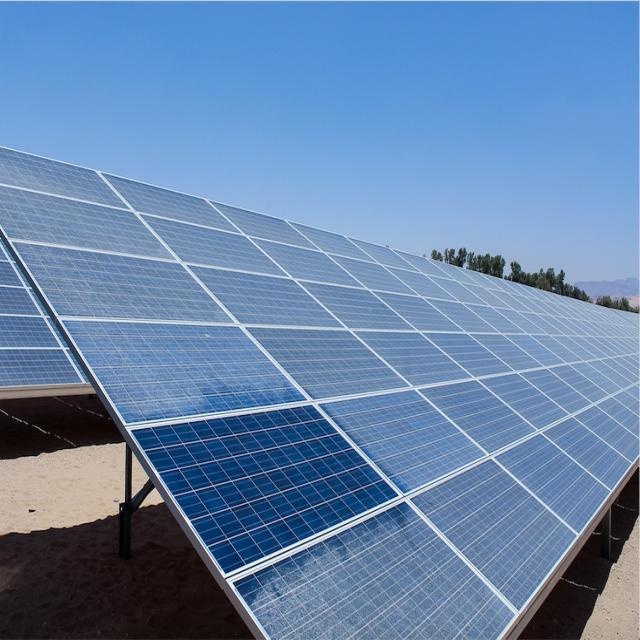dust-solar-panel: (0, 148, 639, 640)
